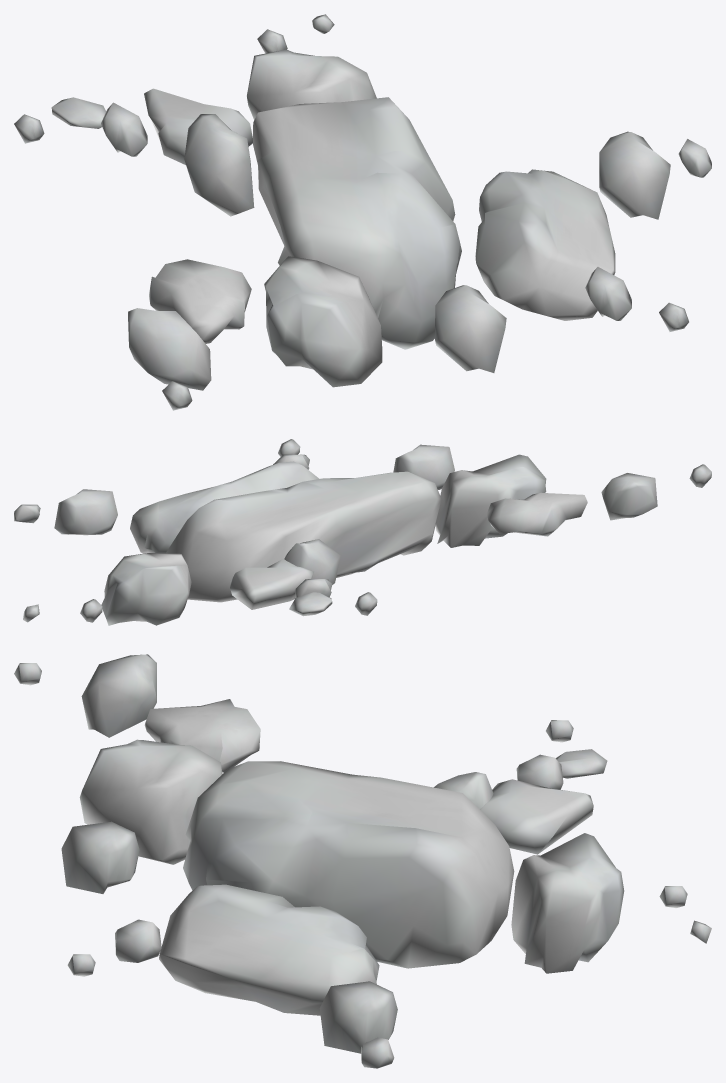
File: snowballs_b.glb
3 views of the same model, one above another, from view 1: azimuth 30°, elevation 25°; view 2: azimuth 150°, elevation 25°; view 3: azimuth 270°, elevation 25° (orthographic). The views are drawn at different scales.
Parts seen in each view (by area): view 1: snowballs_b_LOD0; view 2: snowballs_b_LOD0; view 3: snowballs_b_LOD0.
Part boxes in pixels (left/top/right/bottom): snowballs_b_LOD0: left=14, top=14, right=711, bottom=410; snowballs_b_LOD0: left=14, top=439, right=711, bottom=625; snowballs_b_LOD0: left=14, top=654, right=711, bottom=1068.
Bounding box in the file's own units: 4.16 × 0.788 × 3.82.
1 material, 1 textured.
